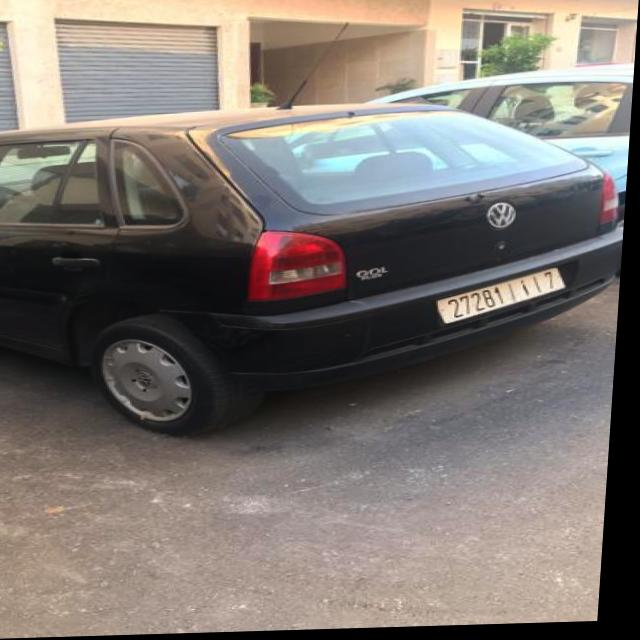License-Plate: (443, 272, 568, 326)
